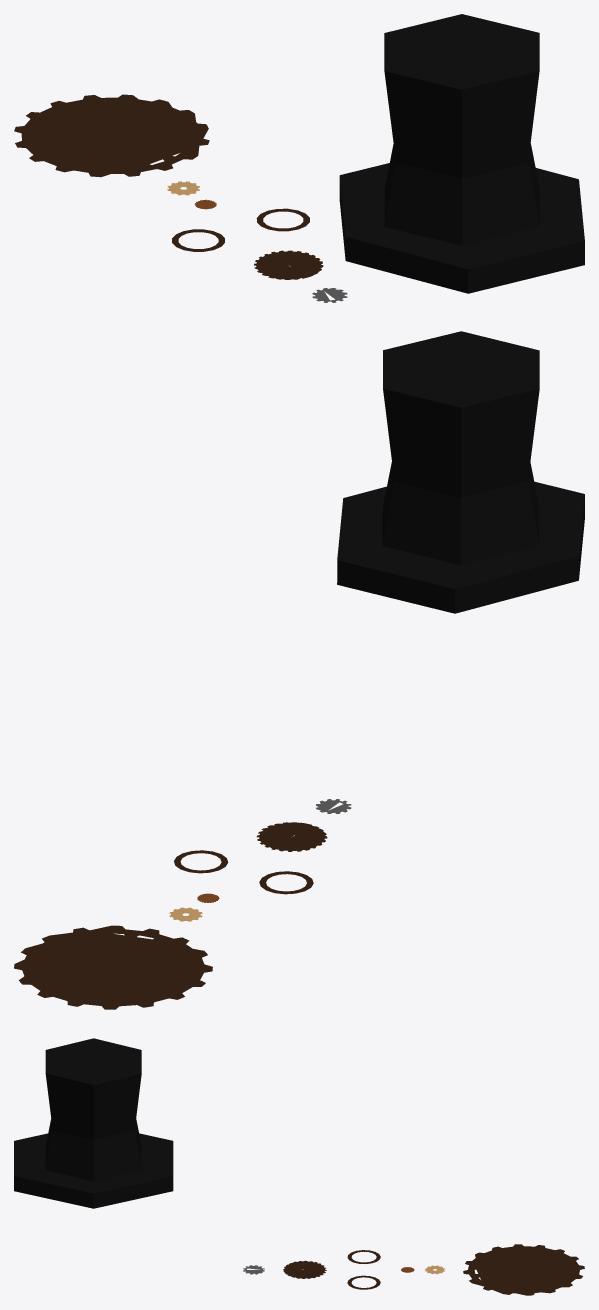
Rendered from 3d_hat.obj.
The picture shows the model from 3 angles, top to bottom: view 1: azimuth 30°, elevation 25°; view 2: azimuth 150°, elevation 25°; view 3: azimuth 270°, elevation 25°; orthographic projection. The views are drawn at different scales.
Visible parts, largest first — view 1: Hat, OutSideRing.006, GearBig.009, Body.003, GearSimple.009; view 2: Hat, OutSideRing.006, GearBig.009, Body.003; view 3: Hat, OutSideRing.006, GearBig.009, Body.003.
Part boxes in pixels (<box>): Hat: <box>339,14,584,293</box>; OutSideRing.006: <box>14,94,209,177</box>; GearBig.009: <box>254,250,323,279</box>; Body.003: <box>172,208,309,251</box>; GearSimple.009: <box>312,288,347,302</box>; Hat: <box>337,331,584,613</box>; OutSideRing.006: <box>14,925,212,1009</box>; GearBig.009: <box>256,822,327,851</box>; Body.003: <box>174,850,313,894</box>; Hat: <box>14,1038,173,1208</box>; OutSideRing.006: <box>463,1244,584,1295</box>; GearBig.009: <box>283,1260,326,1278</box>; Body.003: <box>347,1250,380,1289</box>.
Size of the model in its own units: 0.0543 by 0.075 by 0.1857.
